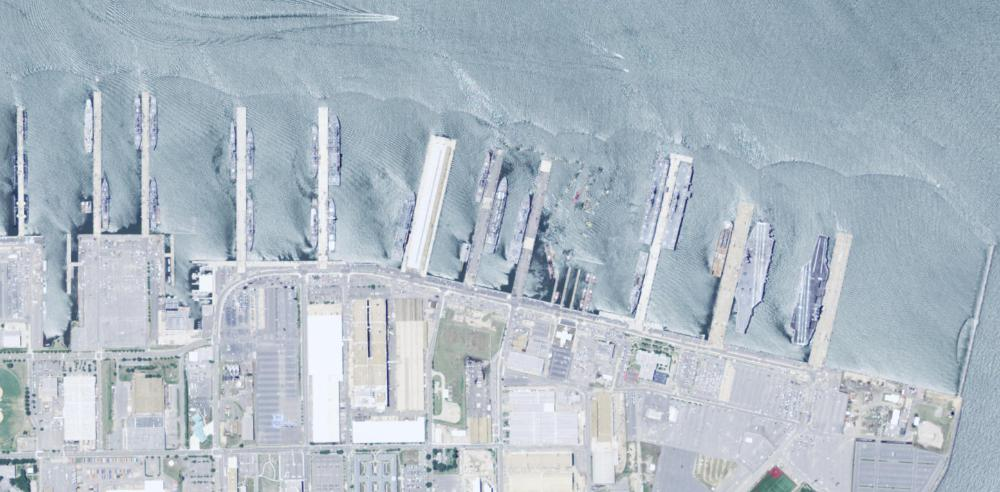amphiby: (507, 194, 533, 268), (626, 253, 652, 316), (327, 113, 342, 190)
cruiser: (244, 192, 258, 254), (227, 121, 240, 183)
destroyer: (320, 195, 341, 258), (306, 195, 323, 250), (476, 150, 493, 205), (306, 124, 321, 182), (244, 128, 255, 184)
pha: (633, 153, 674, 247), (661, 161, 697, 258)
tender: (377, 189, 423, 268), (480, 176, 509, 253)
